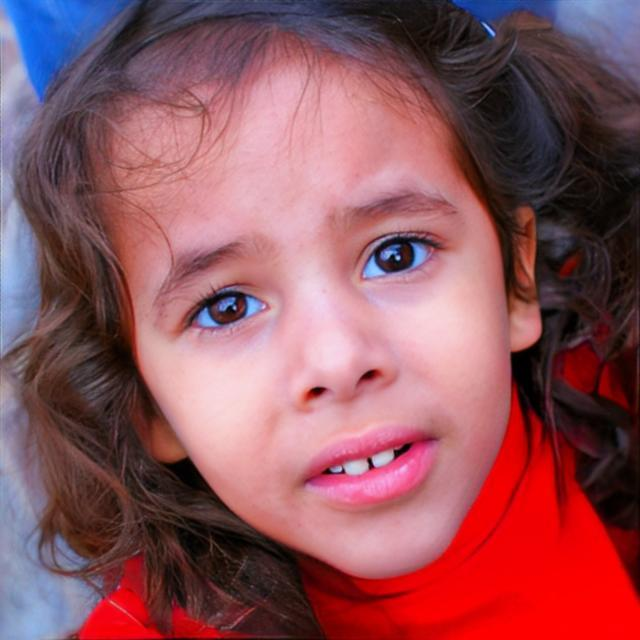fear: (80, 21, 513, 578)
